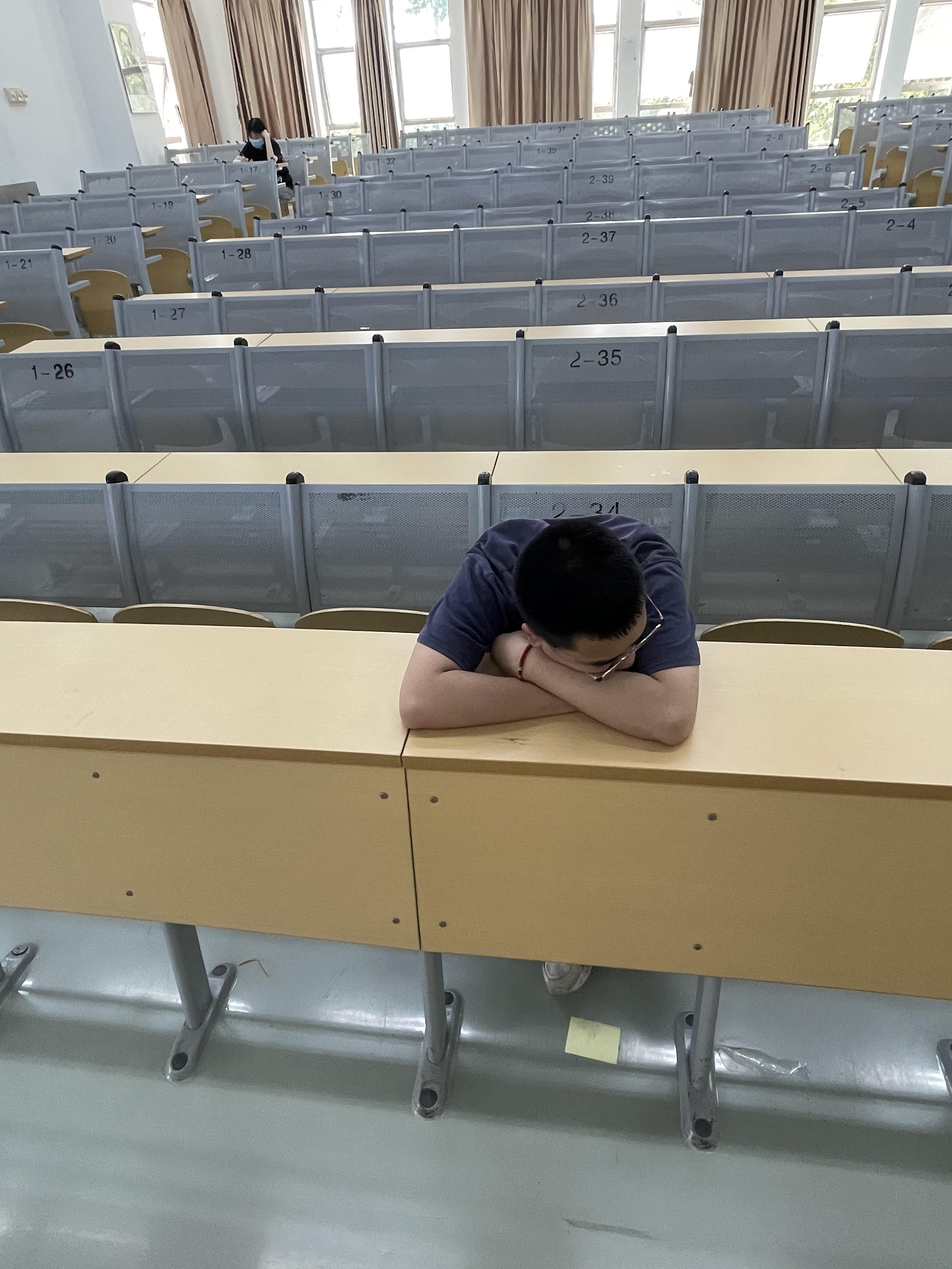sleep: (392, 520, 698, 741)
